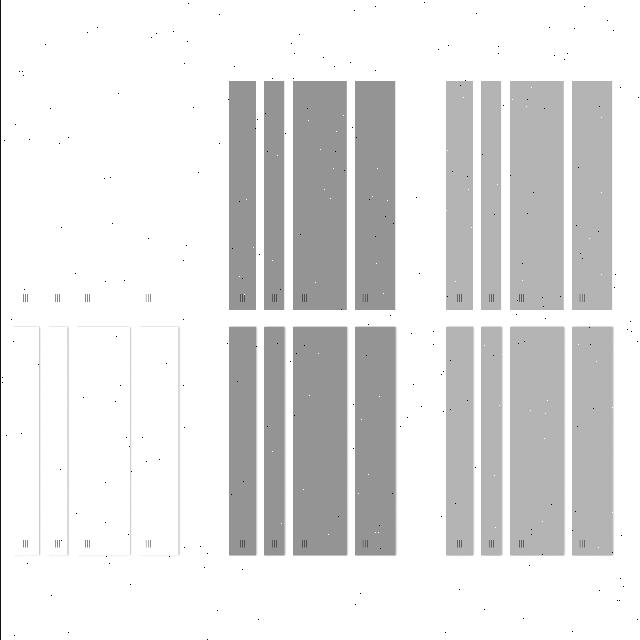VAppBar: (290, 80, 348, 312), (291, 326, 347, 558), (508, 326, 564, 558), (508, 80, 564, 312), (74, 82, 130, 310), (76, 326, 130, 556), (353, 80, 397, 312), (570, 326, 614, 558), (570, 80, 612, 312), (136, 327, 178, 558), (355, 327, 397, 556), (138, 82, 178, 312), (442, 325, 473, 557), (10, 82, 40, 312), (227, 80, 256, 312), (443, 80, 472, 312), (11, 327, 39, 558), (228, 328, 256, 556), (262, 80, 286, 312), (478, 326, 502, 558), (45, 326, 69, 556), (479, 80, 501, 312), (262, 328, 284, 558), (45, 82, 67, 310)
VIcon: (20, 540, 28, 550), (144, 294, 150, 304), (84, 541, 90, 549), (21, 295, 27, 303), (144, 541, 150, 549), (238, 541, 244, 549), (84, 295, 90, 303), (270, 541, 276, 549), (270, 295, 276, 303), (578, 541, 584, 549), (578, 295, 584, 303), (54, 541, 58, 549), (54, 295, 58, 303), (456, 541, 460, 549), (456, 295, 460, 303), (488, 541, 492, 549), (302, 541, 306, 549), (240, 295, 244, 303), (518, 541, 522, 549), (362, 541, 366, 549), (302, 295, 306, 303), (488, 295, 492, 303), (362, 295, 366, 303), (518, 295, 522, 303)
